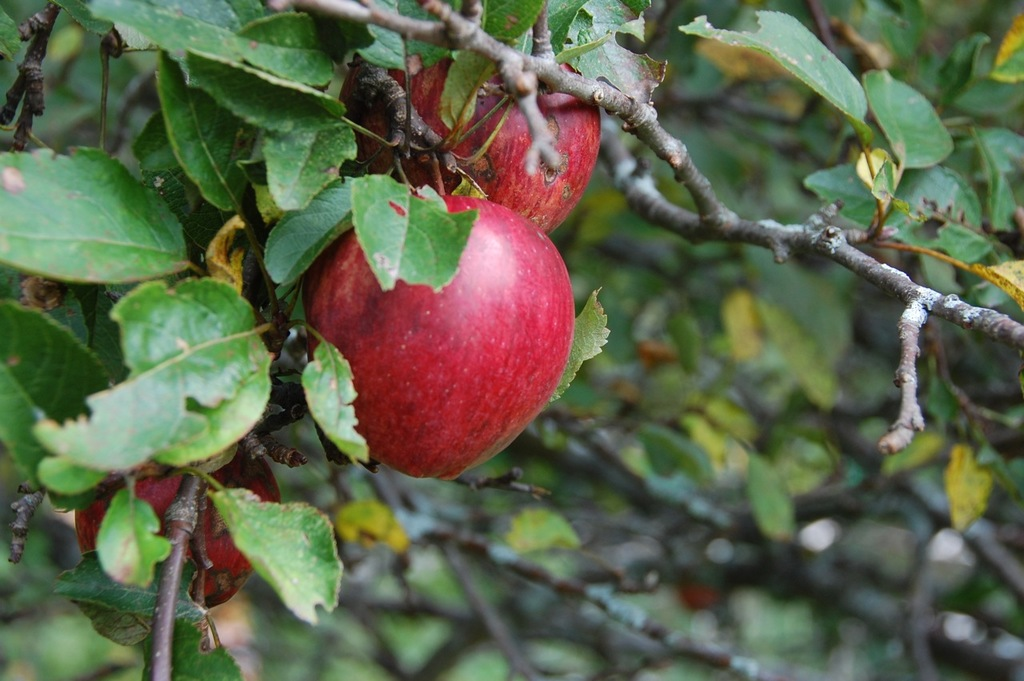Apple: (298, 186, 584, 492), (344, 50, 604, 239), (76, 439, 281, 608)
